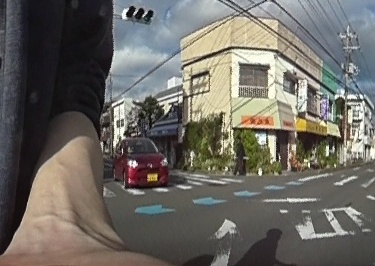person: (234, 137, 246, 174)
